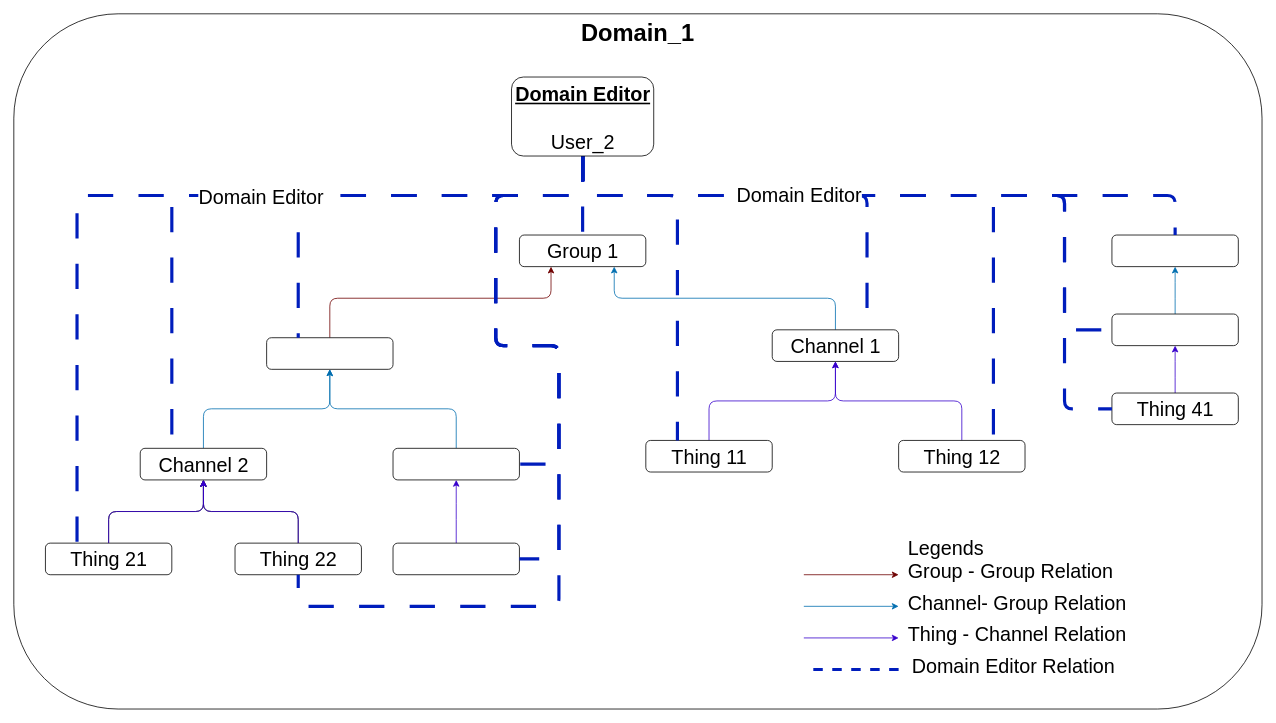
Some shapes in this 1276 by 723 pixel diagram are drawn without their labels. The shapes that lost their labels are listed below. From the top down, each one's centre as x and y in pixels, then its label:
At (x=1174, y=250): "Group 2".
At (x=1174, y=329): "Channel 4".
At (x=329, y=353): "Group 12".
At (x=455, y=464): "Channel 3".
At (x=455, y=558): "Thing 31".
